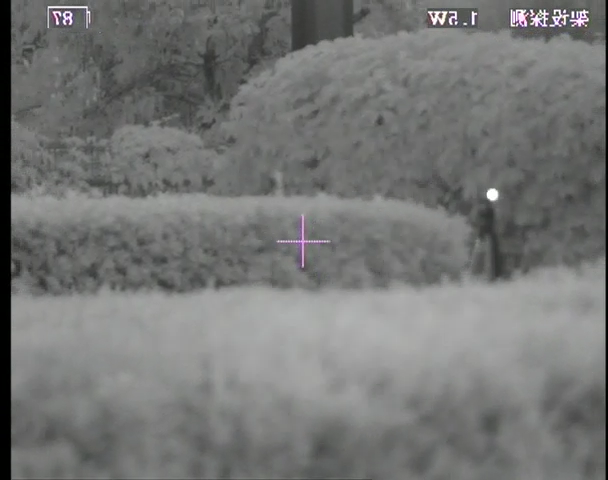my: (485, 186, 499, 202)
